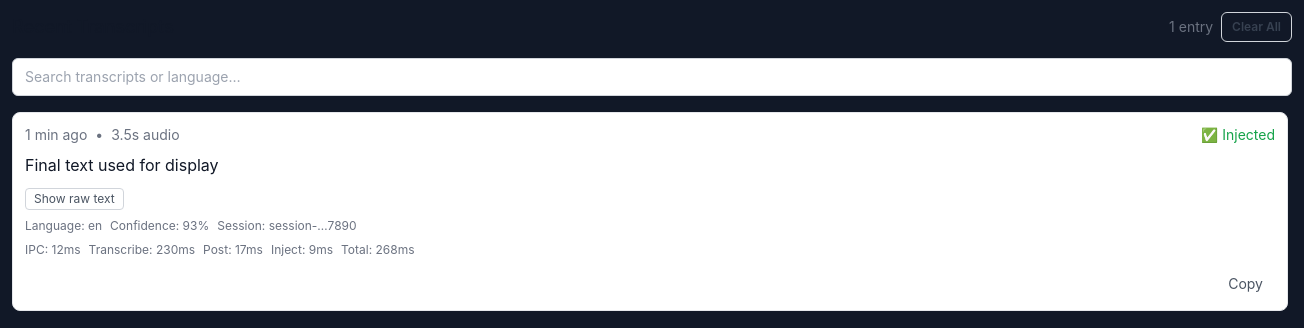
Test: HistoryPanel › shows transcript metadata when additive fields are present
The image size is (1304, 328).
Check: the text "Final text used for display" is shown, box x1=25 y1=155 x2=219 y2=175
What coordinates should you click on to do the following:
click the button with test id "history-entry-toggle-1"
I would click on:
 (74, 199)
Its box is x1=25 y1=188 x2=124 y2=210.
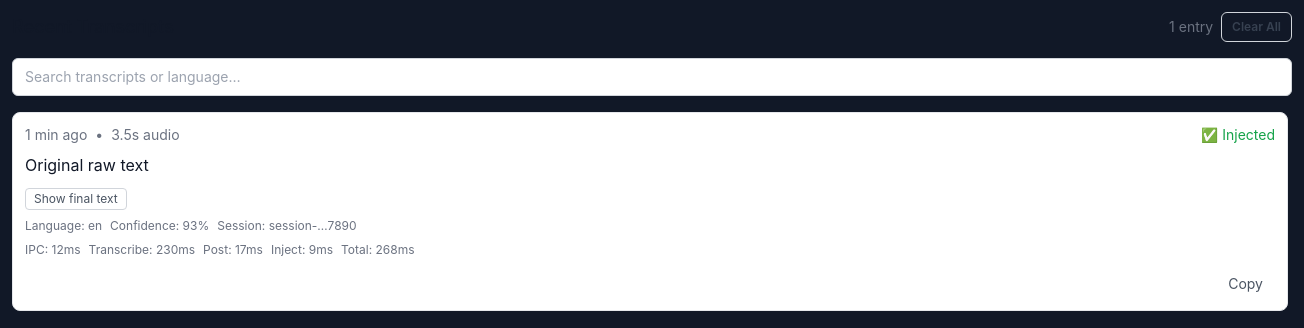
Check: the text "Language: en" is shown, box x1=25 y1=218 x2=102 y2=234
Check: the text "Original raw text" is shown, box x1=25 y1=155 x2=149 y2=175
